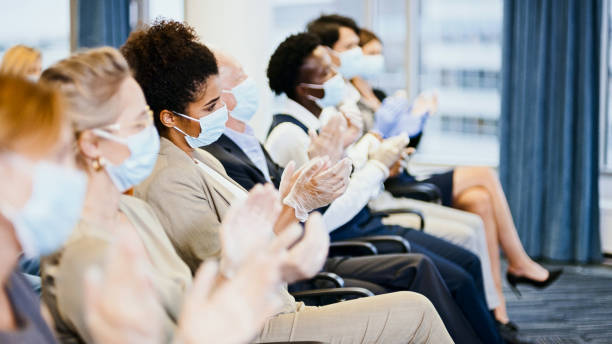with mask: (1, 106, 92, 265), (85, 47, 161, 200), (164, 33, 229, 154), (285, 38, 346, 122), (325, 18, 366, 82), (361, 21, 402, 84)
